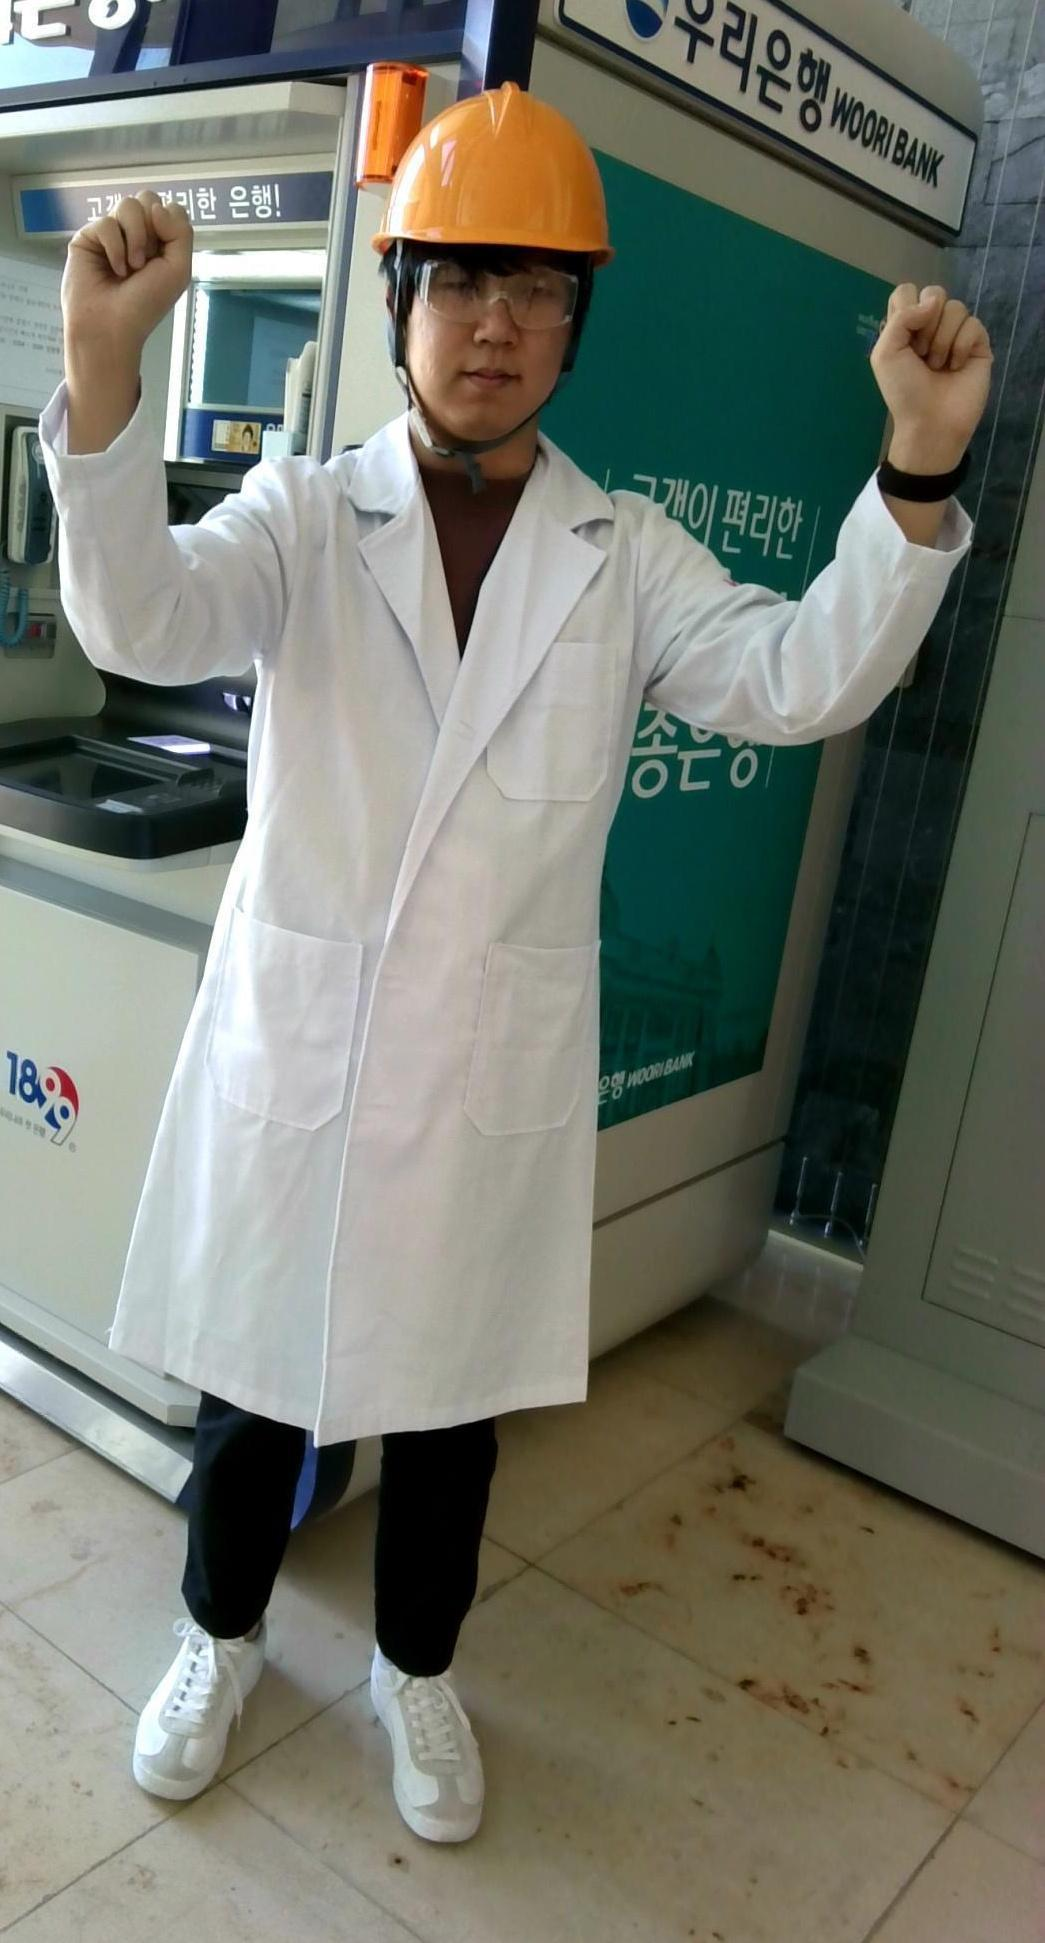lab_coat: (153, 504, 660, 1397)
